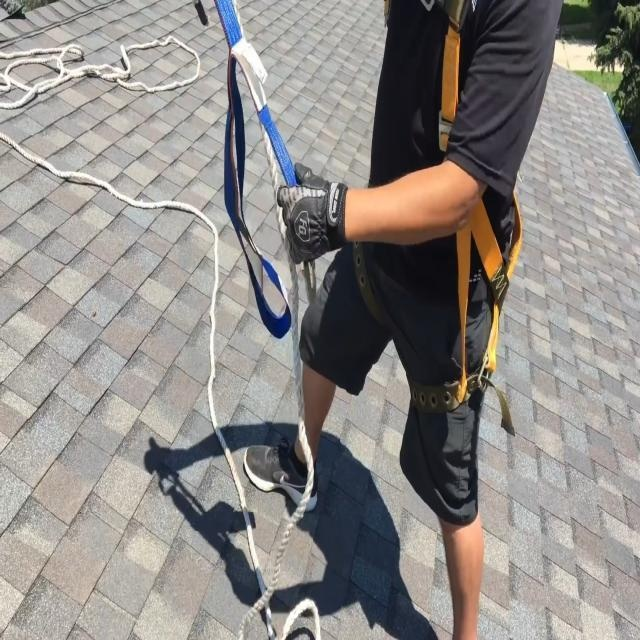Arnes_seguridad: (327, 0, 542, 442)
